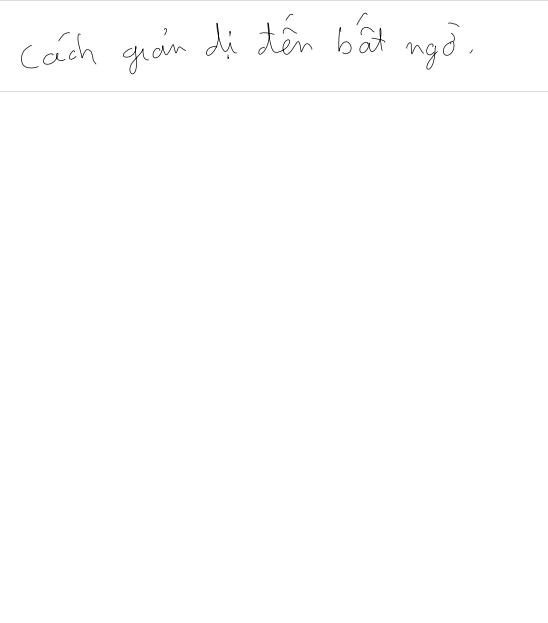text: (19, 10, 477, 79)
